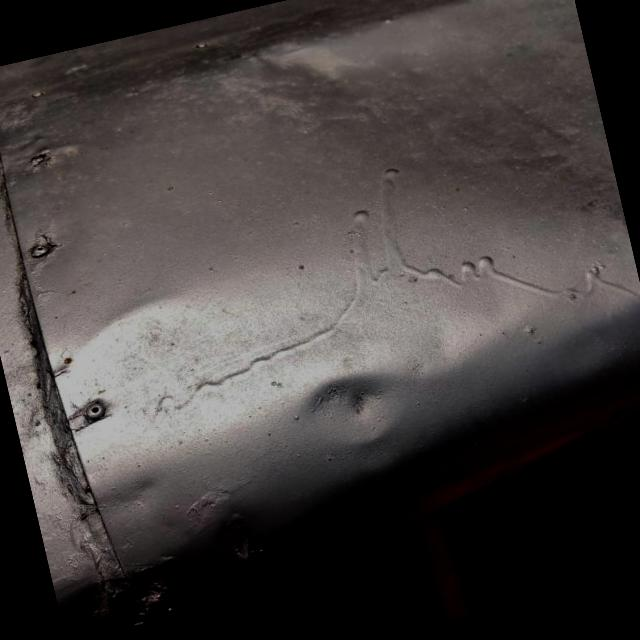dent: (258, 331, 434, 498), (168, 473, 306, 601)
